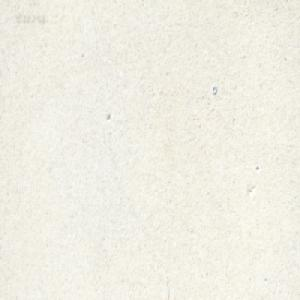Washer: (211, 84, 217, 95)
